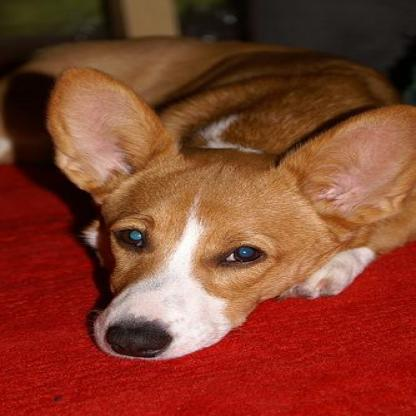Pembroke: (0, 30, 412, 361)
